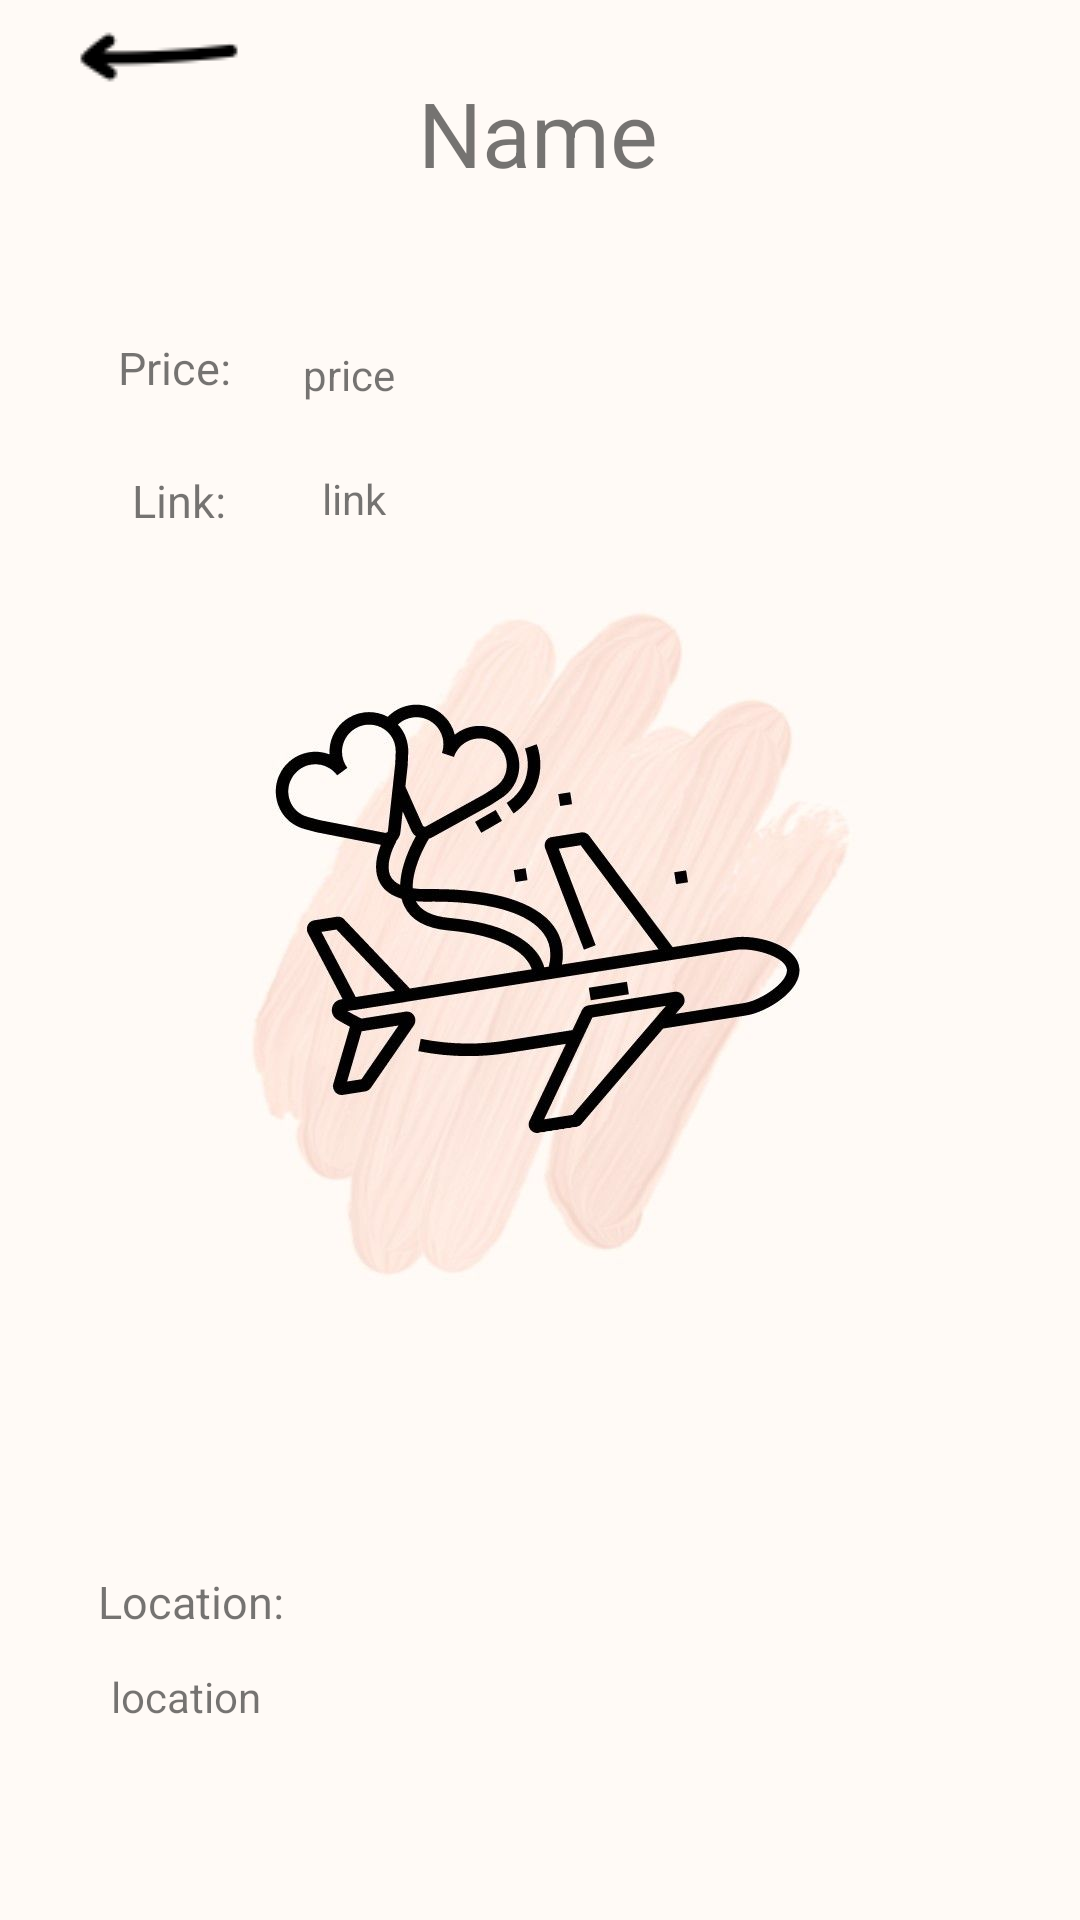

Icons on this 1080 × 1920 Android screen, each with the point to tap as point (x, y):
left: point (159, 57)
